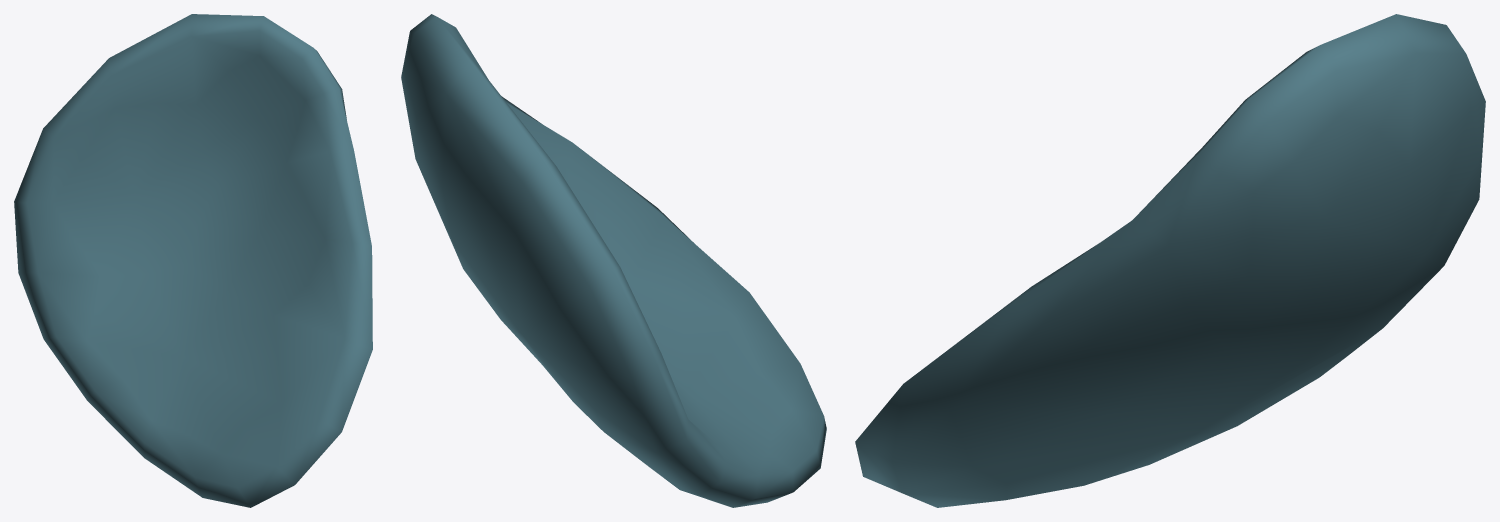
The model's file is Abductor_hallucis_on_proximal_phalanx_of_1st_finger.r_Generated.glb.
3 views of the same model, side by side, from view 1: azimuth 30°, elevation 25°; view 2: azimuth 150°, elevation 25°; view 3: azimuth 270°, elevation 25° (orthographic). The views are drawn at different scales.
Parts seen in each view (by area): view 1: Abductor_hallucis_on_proximal_phalanx_of_1st_finger.r_Genera; view 2: Abductor_hallucis_on_proximal_phalanx_of_1st_finger.r_Genera; view 3: Abductor_hallucis_on_proximal_phalanx_of_1st_finger.r_Genera.
Boxes of the visible parts, bbox=[...] form: Abductor_hallucis_on_proximal_phalanx_of_1st_finger.r_Genera: bbox=[14, 14, 372, 507]; Abductor_hallucis_on_proximal_phalanx_of_1st_finger.r_Genera: bbox=[401, 14, 826, 507]; Abductor_hallucis_on_proximal_phalanx_of_1st_finger.r_Genera: bbox=[855, 14, 1485, 507].
Bounding box in the file's own units: 0.00323 × 0.00437 × 0.00438.
